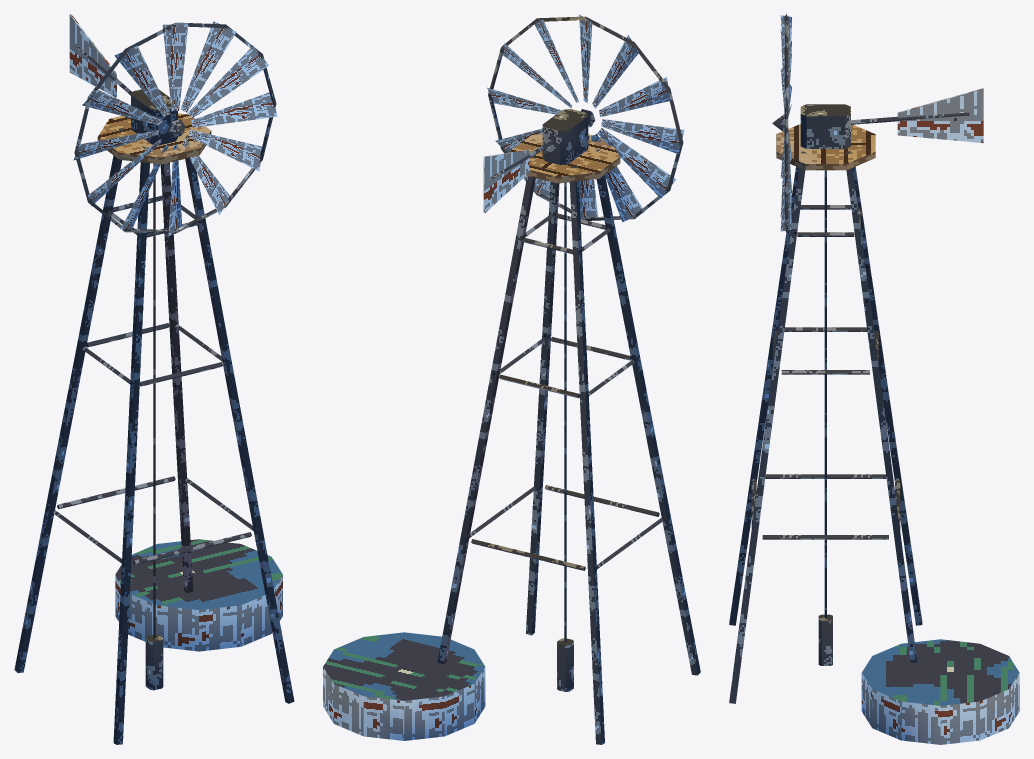
File: wprop.windmill.glb
The picture shows the model from 3 angles, left to right: view 1: azimuth 30°, elevation 25°; view 2: azimuth 150°, elevation 25°; view 3: azimuth 270°, elevation 25°; orthographic projection. The views are drawn at different scales.
Visible parts, largest first — view 1: kit_legs, kit_tank, kit_card_blades, kit_girts, kit_platform, kit_rim, kit_vane, kit_head, kit_rod, kit_pump; view 2: kit_legs, kit_tank, kit_card_blades, kit_girts, kit_platform, kit_head, kit_rim, kit_vane, kit_rod, kit_pump; view 3: kit_tank, kit_legs, kit_girts, kit_vane, kit_platform, kit_head, kit_card_blades, kit_rod, kit_rim, kit_pump, kit_tail_boom.
Part boxes in pixels (x1,y1,x2,y2): kit_legs: (14, 128, 294, 744); kit_tank: (115, 539, 282, 651); kit_card_blades: (73, 21, 277, 235); kit_girts: (52, 195, 253, 564); kit_platform: (97, 113, 211, 164); kit_rim: (74, 22, 276, 233); kit_vane: (69, 14, 116, 97); kit_head: (131, 89, 177, 145); kit_rod: (153, 163, 155, 638); kit_pump: (145, 634, 163, 690); kit_legs: (437, 148, 700, 744); kit_tank: (323, 632, 485, 740); kit_card_blades: (487, 14, 684, 222); kit_girts: (469, 213, 663, 570); kit_platform: (510, 134, 620, 183); kit_head: (542, 109, 588, 164); kit_rim: (488, 16, 683, 220); kit_vane: (483, 149, 529, 212); kit_rod: (564, 182, 566, 641); kit_pump: (557, 638, 573, 691); kit_tank: (861, 639, 1019, 744); kit_legs: (729, 150, 922, 703); kit_girts: (751, 205, 900, 539); kit_vane: (897, 88, 983, 143); kit_platform: (776, 124, 875, 170); kit_head: (800, 104, 850, 148); kit_card_blades: (780, 15, 791, 231); kit_rod: (824, 170, 826, 617); kit_rim: (784, 14, 788, 232); kit_pump: (818, 614, 832, 665); kit_tail_boom: (851, 112, 969, 124).
Size of the model in its own units: 4.23 by 9.84 by 4.05.
5 materials, 5 textured.
